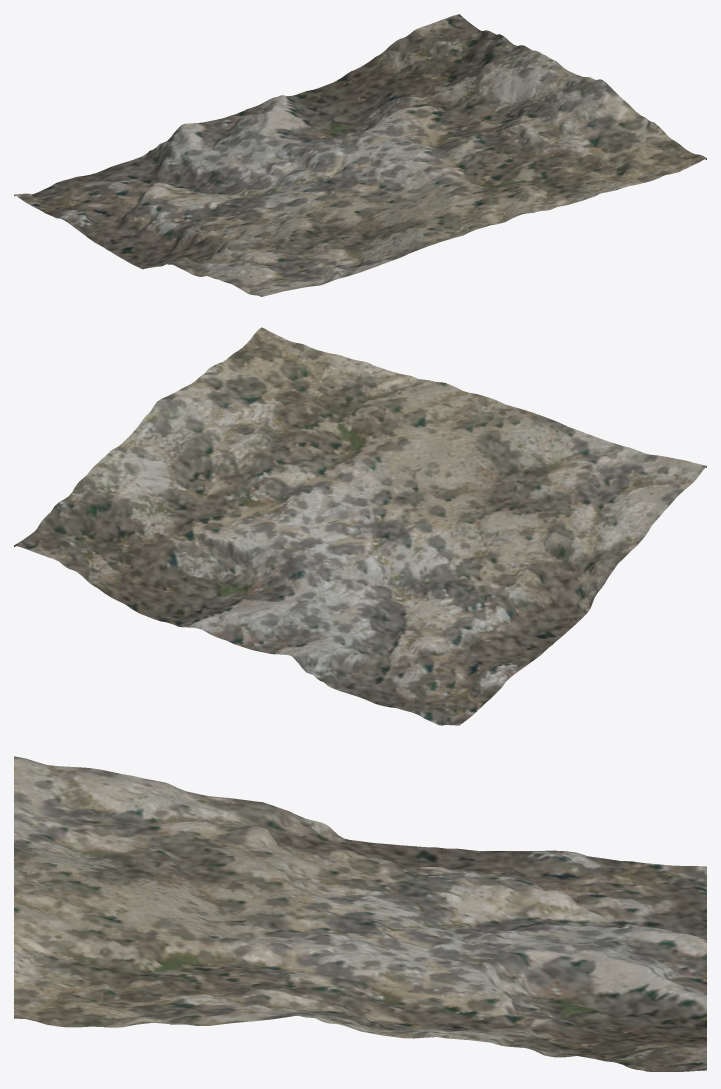
3 views of the same model, one above another, from view 1: azimuth 30°, elevation 25°; view 2: azimuth 150°, elevation 25°; view 3: azimuth 270°, elevation 25° (orthographic). The views are drawn at different scales.
Bounding box in the file's own units: 250 × 62.65 × 241.
Materials: 1 (1 with a texture image).
